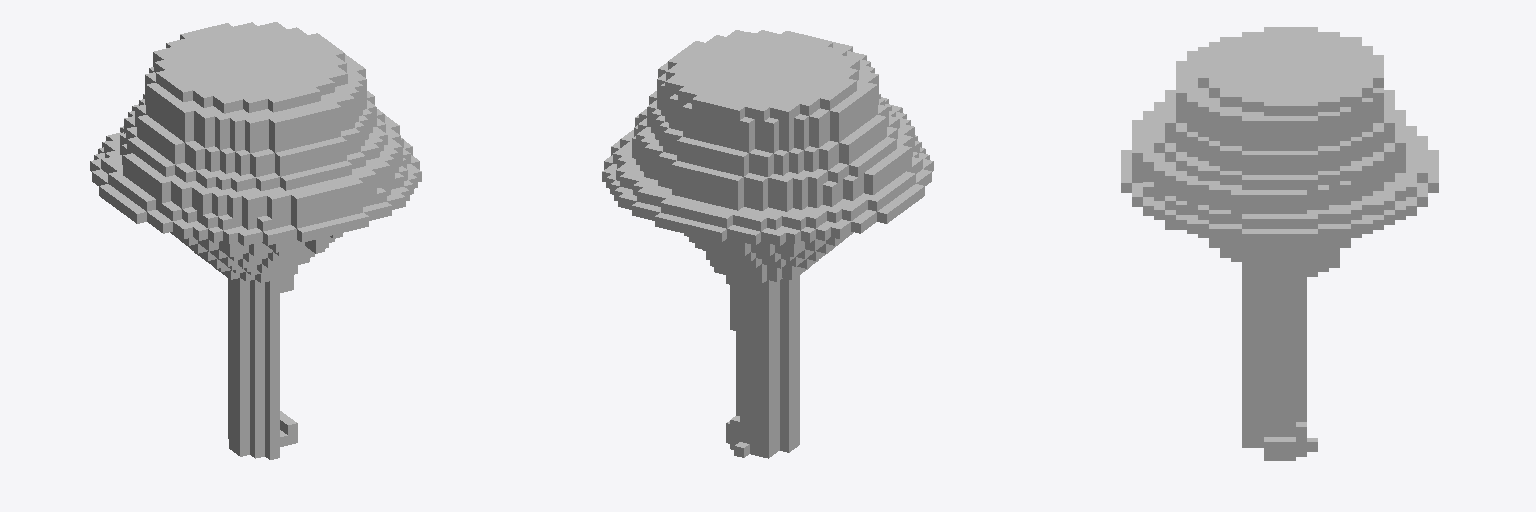
The model's file is tree 1.obj.
The picture shows the model from 3 angles: view 1: azimuth 30°, elevation 25°; view 2: azimuth 150°, elevation 25°; view 3: azimuth 270°, elevation 25°; orthographic projection.
Visible parts, largest first — view 1: object 1; view 2: object 1; view 3: object 1.
Part boxes in pixels (x1,y1,x2,y2): object 1: (90, 22, 421, 459); object 1: (602, 30, 933, 458); object 1: (1121, 27, 1438, 460).
Bounding box in the file's own units: 2.9 × 3.8 × 2.9.